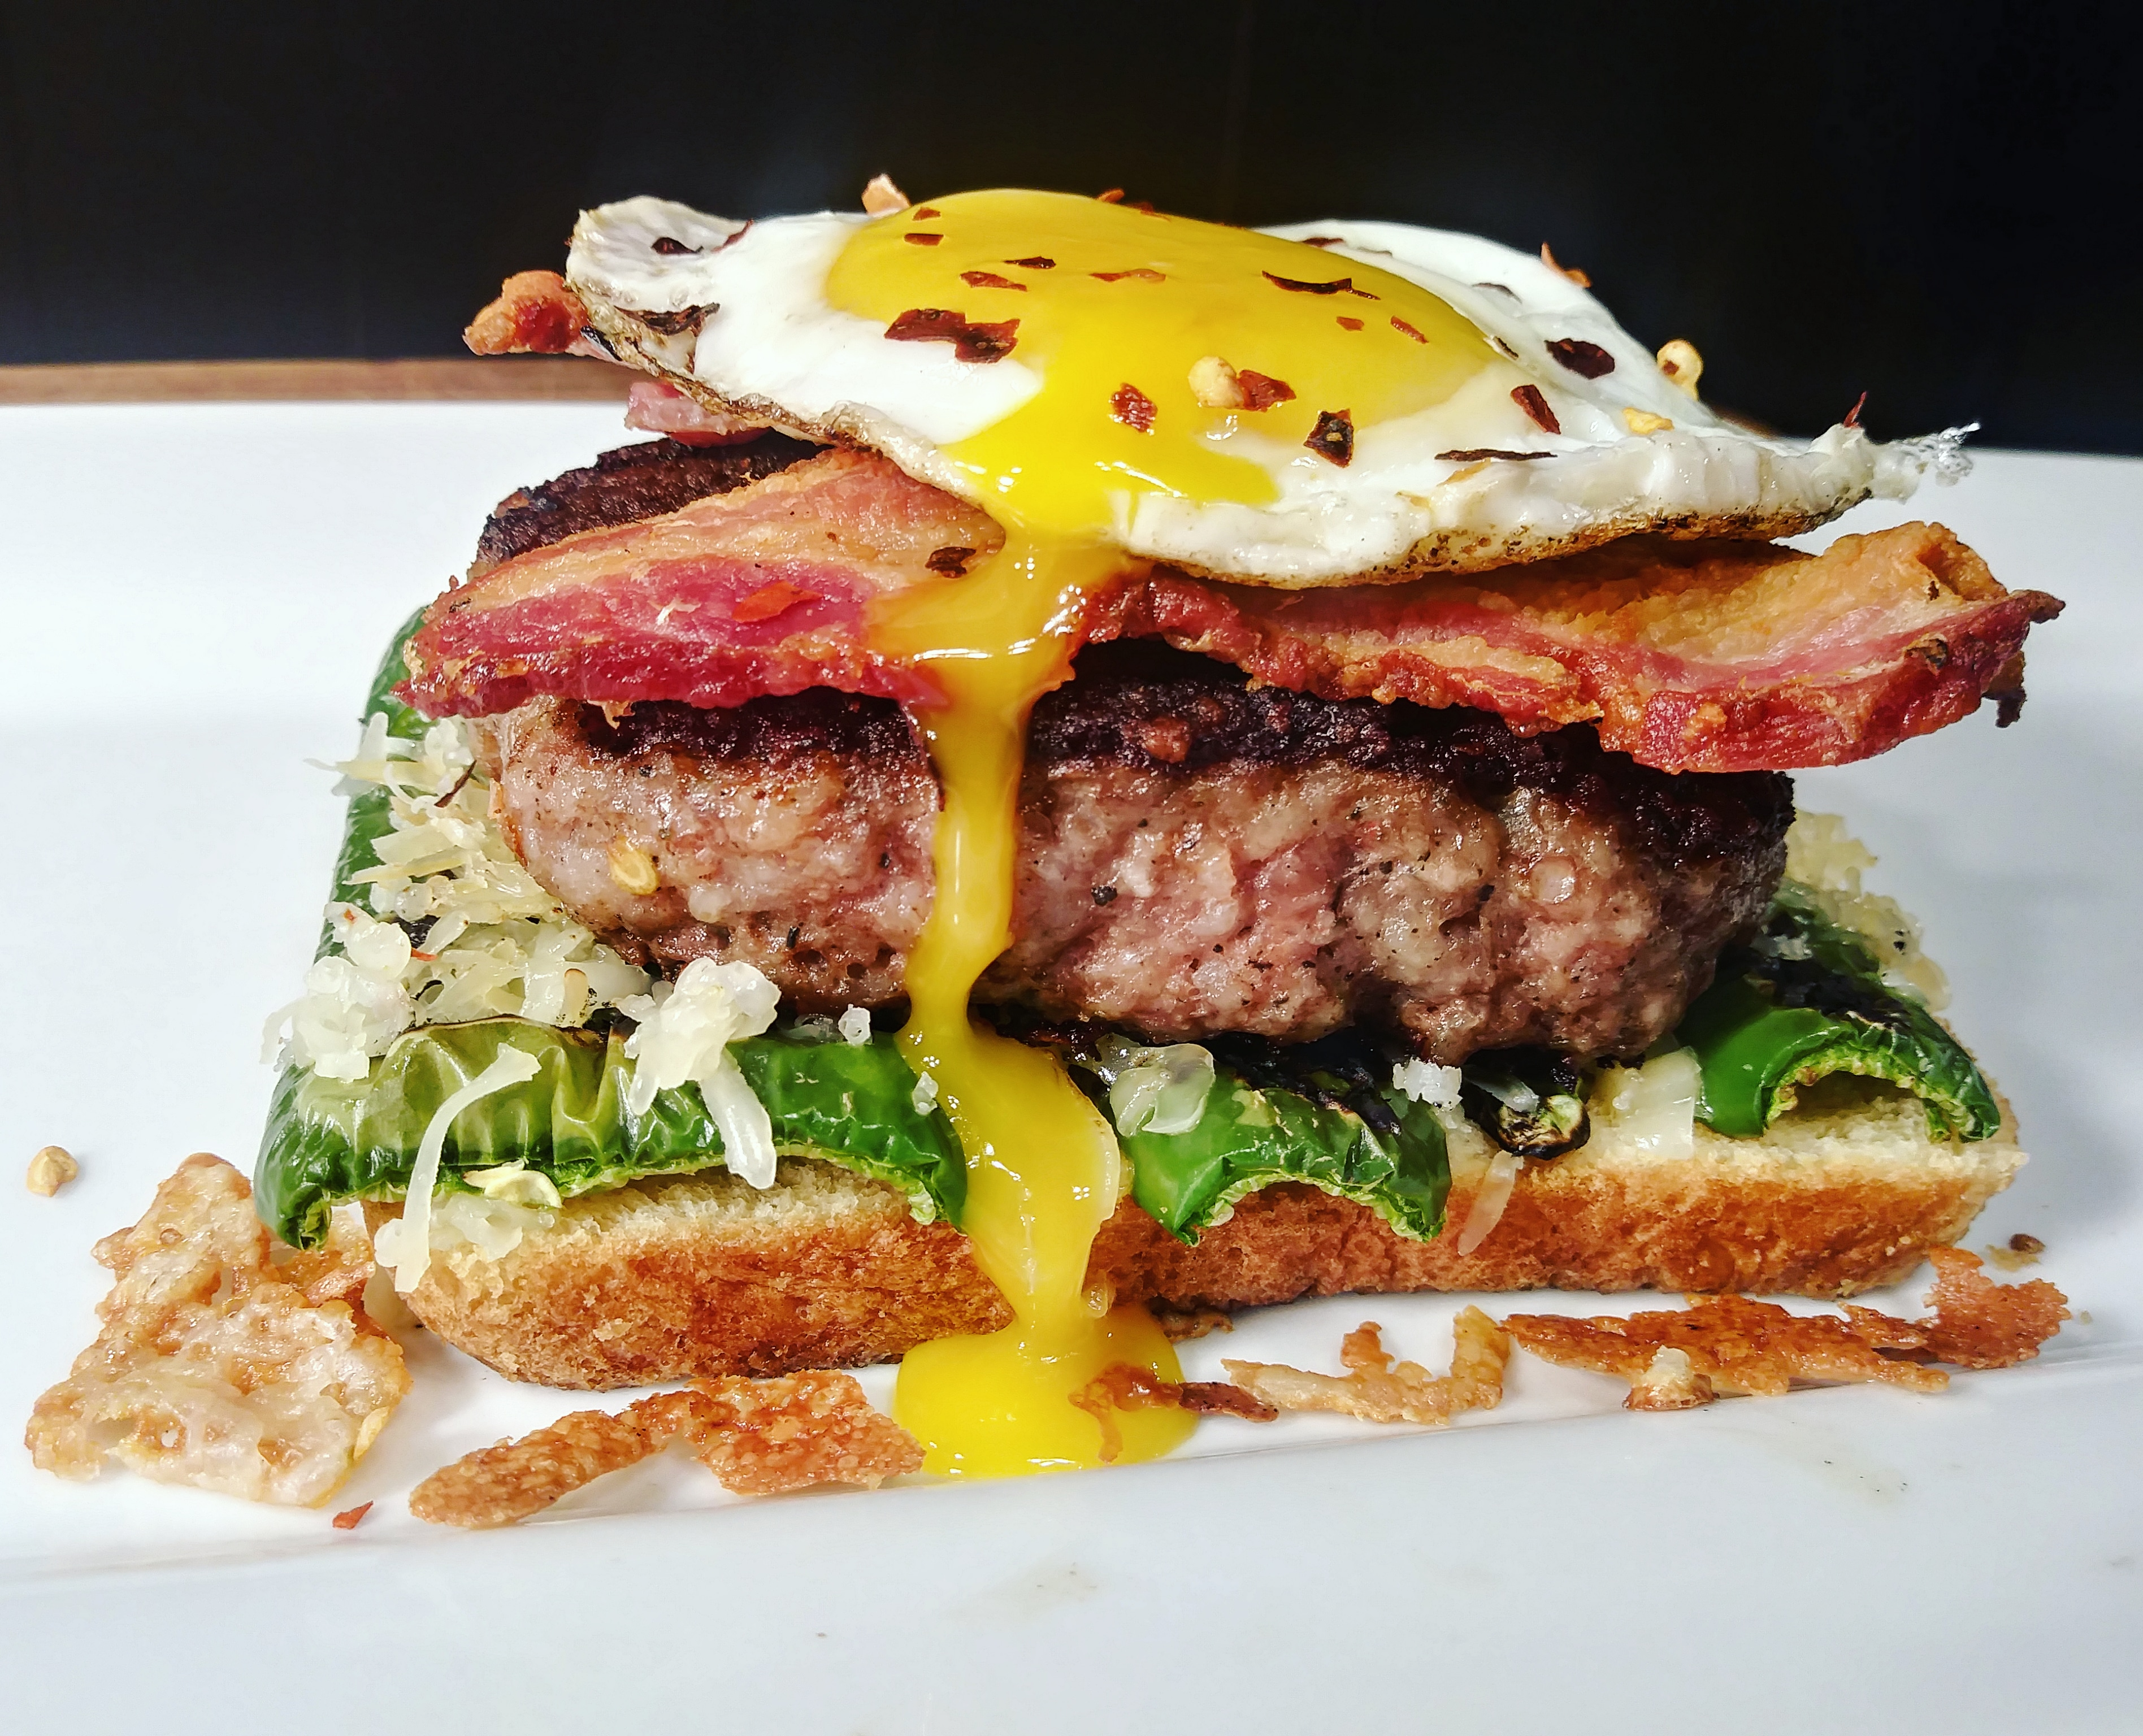fried egg: (622, 193, 1842, 556)
slice of bread: (422, 1134, 2026, 1403)
